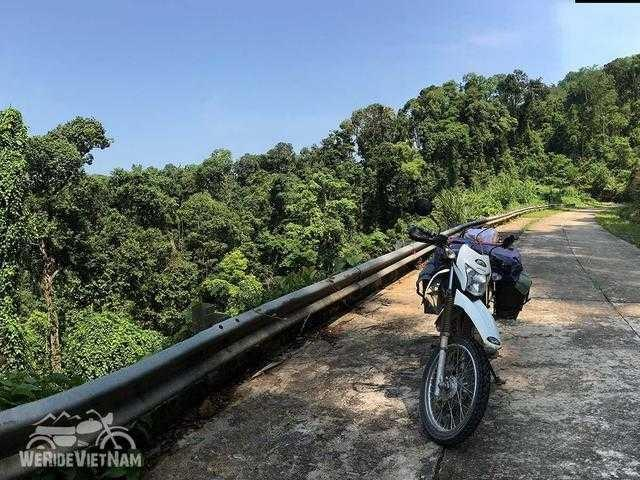motorbike: (396, 211, 530, 447)
